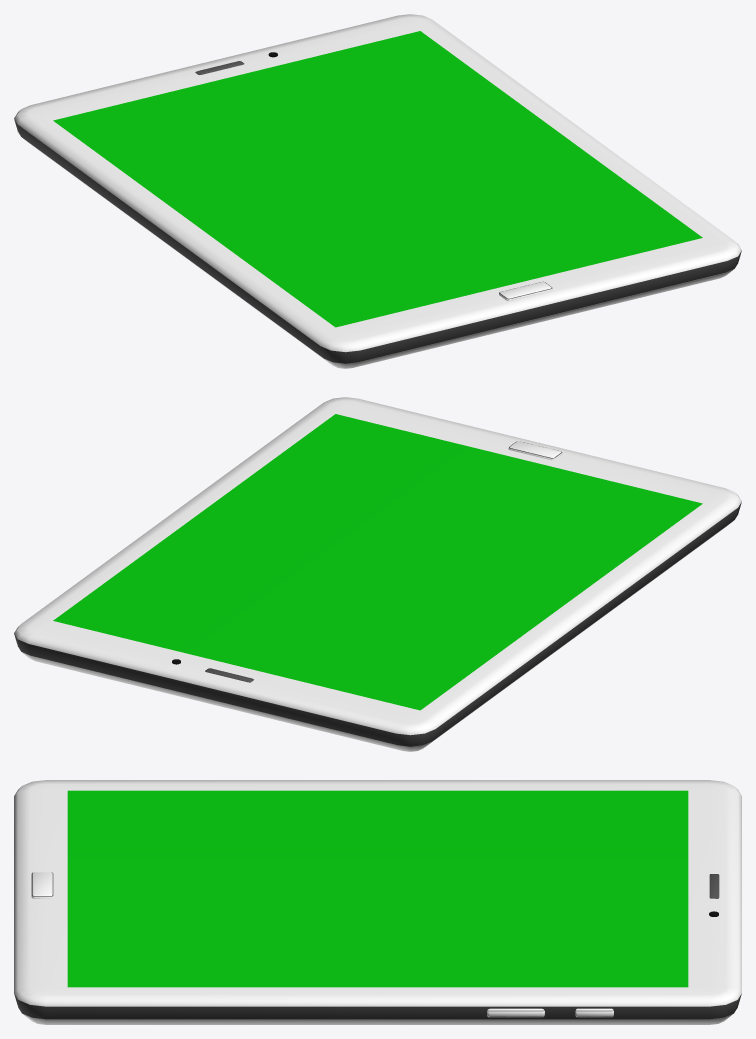
File: Tablet.glb
3 views of the same model, one above another, from view 1: azimuth 30°, elevation 25°; view 2: azimuth 150°, elevation 25°; view 3: azimuth 270°, elevation 25° (orthographic). The views are drawn at different scales.
Parts seen in each view (by area): view 1: ChamferBox001; view 2: ChamferBox001; view 3: ChamferBox001, ChamferBox002, ChamferBox005.
Part boxes in pixels (left/top/right/bottom): ChamferBox001: left=14, top=14, right=741, bottom=368; ChamferBox001: left=14, top=397, right=741, bottom=751; ChamferBox001: left=14, top=780, right=741, bottom=1024; ChamferBox002: left=31, top=872, right=53, bottom=898; ChamferBox005: left=487, top=1008, right=544, bottom=1017.
Size of the model in its own units: 44.12 by 3.65 by 60.34.
